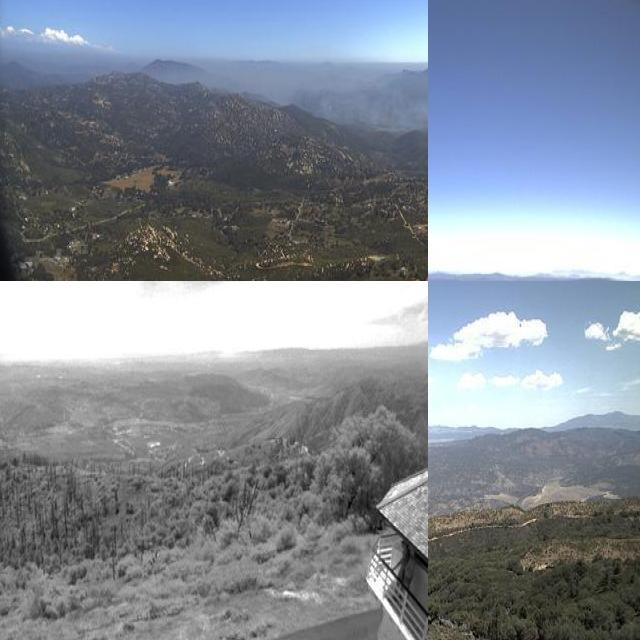smoke: (326, 79, 428, 139)
